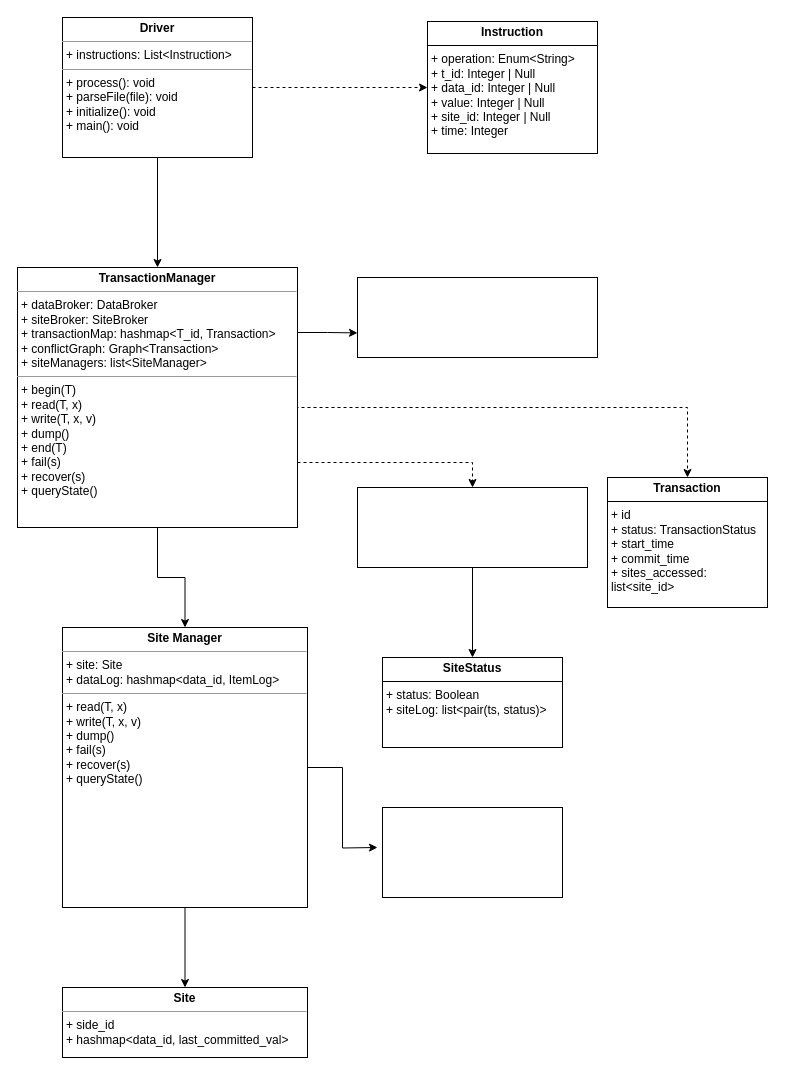
Some shapes in this 785 by 1075 pixel diagram are drawn without their labels. Each missing label, with the box of its shape:
DataBroker + dataMap: hashmap<data_id, list<SiteManager>>: (356, 276, 598, 358)
ItemLog + log: list<pair(val, ts)>: (382, 806, 562, 898)
SiteBroker + siteMap: hashmap<site_id, SiteStatus>: (356, 486, 588, 568)
